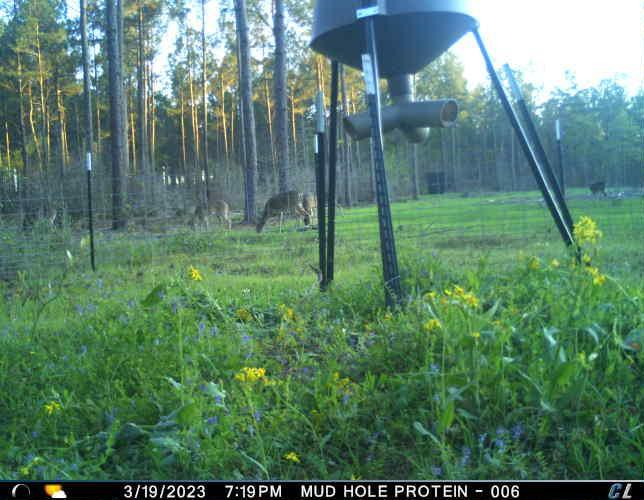Deer: (254, 190, 308, 236), (192, 198, 234, 234), (21, 201, 64, 236), (301, 190, 348, 222)
